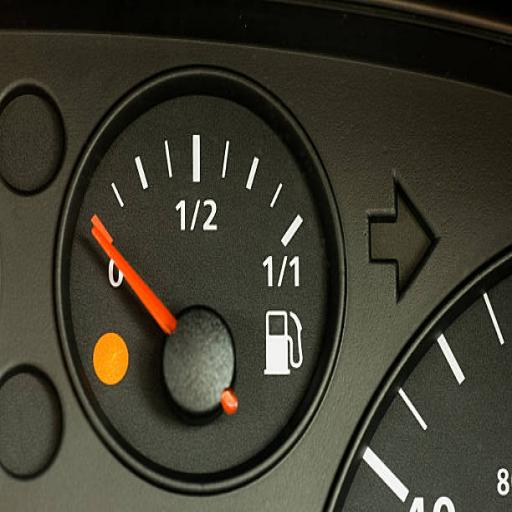fuel_icon: (260, 304, 307, 384)
full: (262, 252, 307, 291)
guage_area: (49, 60, 346, 490)
needle_center: (159, 300, 238, 422), (86, 220, 110, 254)
